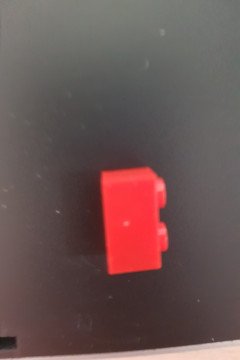1x2 red: (97, 165, 172, 275)
